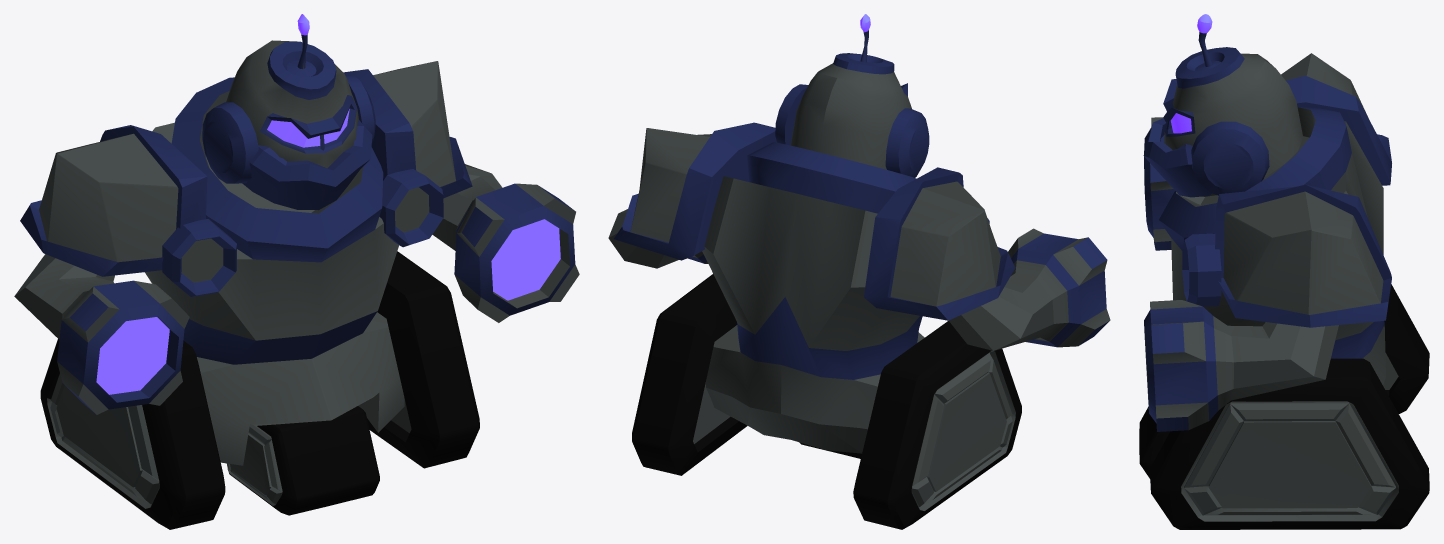
Rendered from tekerli güçlü robot.fbx.
3 views of the same model, side by side, from view 1: azimuth 30°, elevation 25°; view 2: azimuth 150°, elevation 25°; view 3: azimuth 270°, elevation 25° (orthographic). The views are drawn at different scales.
Visible parts, largest first — view 1: 3; view 2: 3; view 3: 3.
Boxes of the visible parts, box(x1,y1,x2,y2) form: 3: box(14, 14, 579, 529); 3: box(608, 14, 1110, 529); 3: box(1139, 14, 1429, 529).
Bounding box in the file's own units: 862 × 776 × 454.
